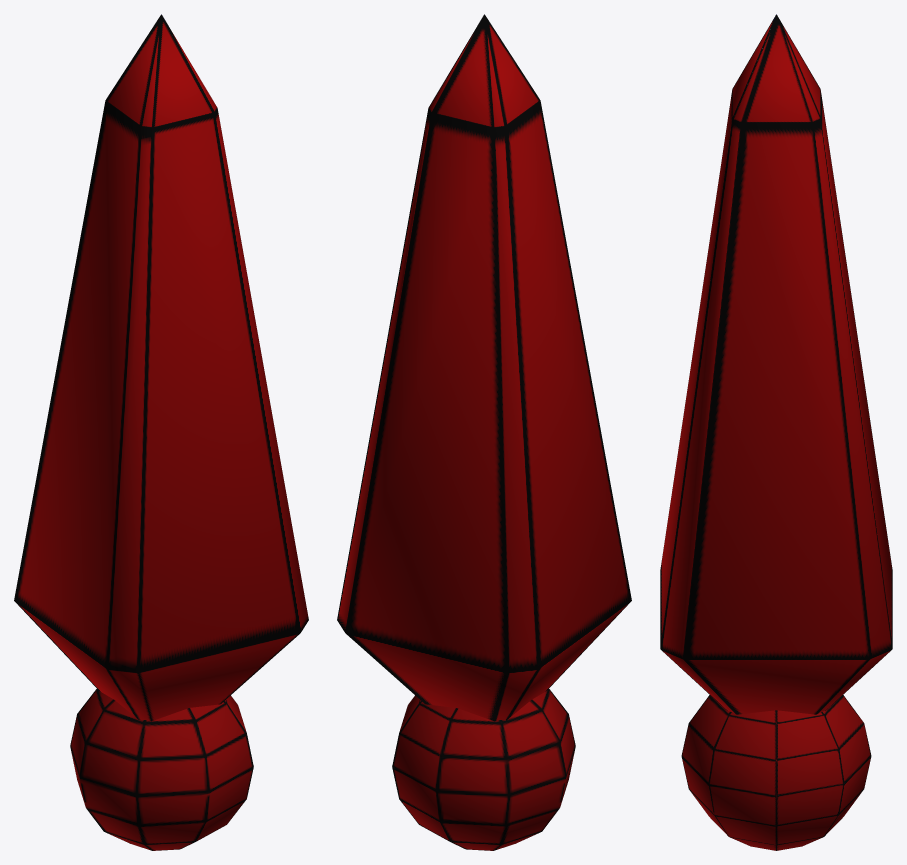
File: bone.dae
3 views of the same model, side by side, from view 1: azimuth 30°, elevation 25°; view 2: azimuth 150°, elevation 25°; view 3: azimuth 270°, elevation 25° (orthographic).
Visible parts, largest first — view 1: Cube, Sphere; view 2: Cube, Sphere; view 3: Cube, Sphere.
Part boxes in pixels (x1,y1,x2,y2): Cube: (14, 14, 308, 721); Sphere: (70, 689, 253, 850); Cube: (337, 14, 631, 721); Sphere: (392, 689, 575, 850); Cube: (660, 14, 892, 714); Sphere: (681, 695, 871, 850).
Bounding box in the file's own units: 1.94 × 1.94 × 7.63.
Materials: 2 (2 with a texture image).
